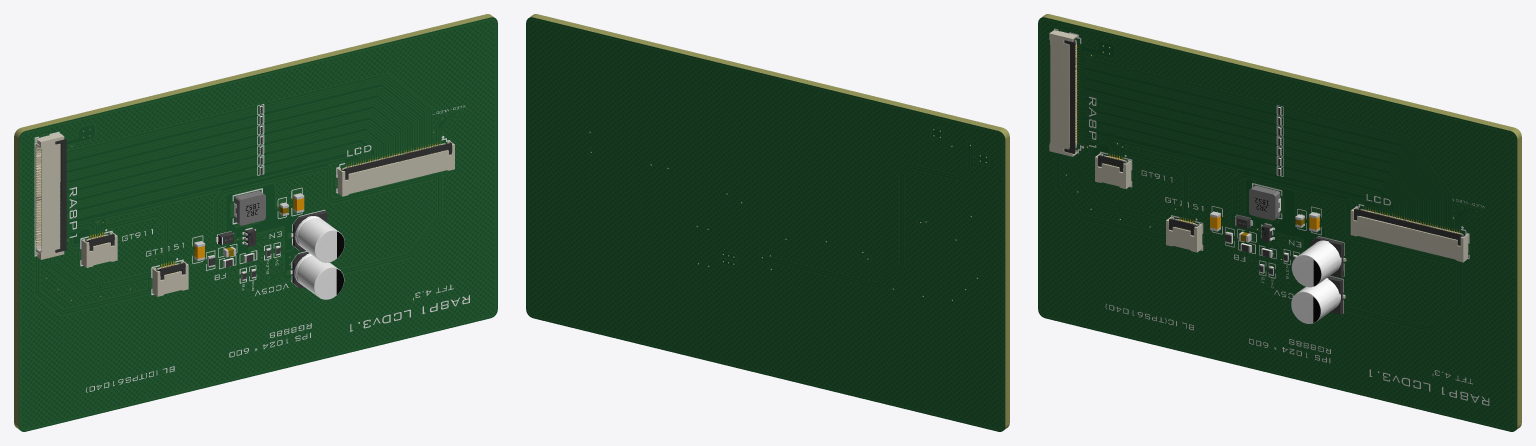
File: H_LCD背光驱动板_2026-08-17.obj
3 views of the same model, side by side, from view 1: azimuth 30°, elevation 25°; view 2: azimuth 150°, elevation 25°; view 3: azimuth 330°, elevation 25° (orthographic).
Size of the model in its own units: 99.97 by 59.97 by 9.37.
